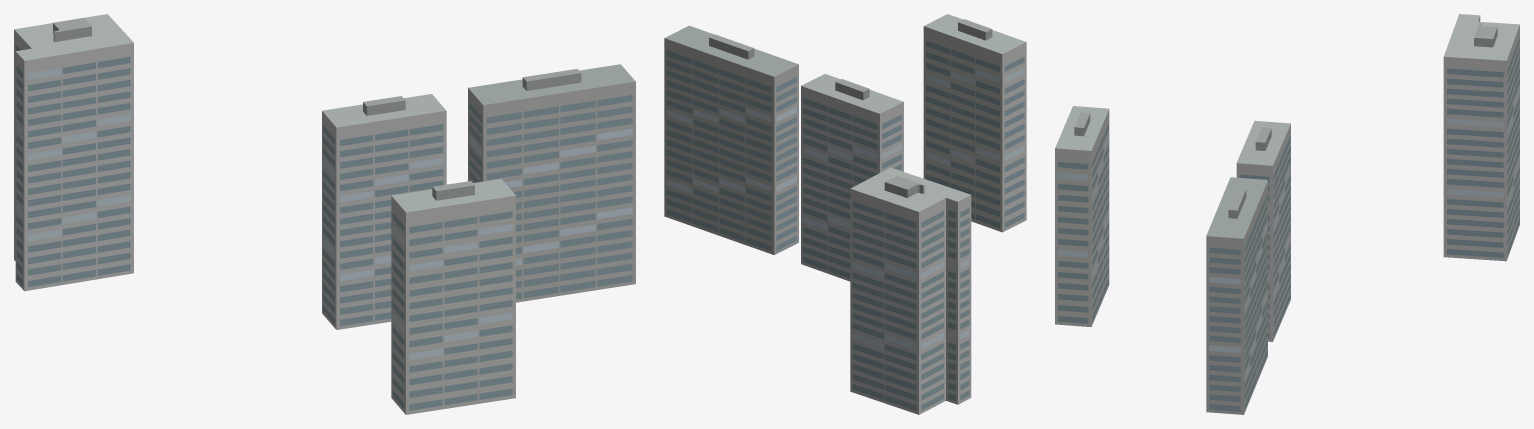
Rendered from apt-a10026197.glb.
3 views of the same model, side by side, from view 1: azimuth 30°, elevation 25°; view 2: azimuth 150°, elevation 25°; view 3: azimuth 270°, elevation 25° (orthographic). The views are drawn at different scales.
Visible parts, largest first — view 1: apt-a10026197; view 2: apt-a10026197; view 3: apt-a10026197.
Part boxes in pixels (left/top/right/bottom): apt-a10026197: left=14, top=14, right=635, bottom=414; apt-a10026197: left=664, top=14, right=1026, bottom=414; apt-a10026197: left=1055, top=14, right=1519, bottom=414.
Bounding box in the file's own units: 124 × 60 × 121.
